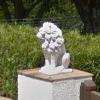Statue: (26, 13, 91, 92)
